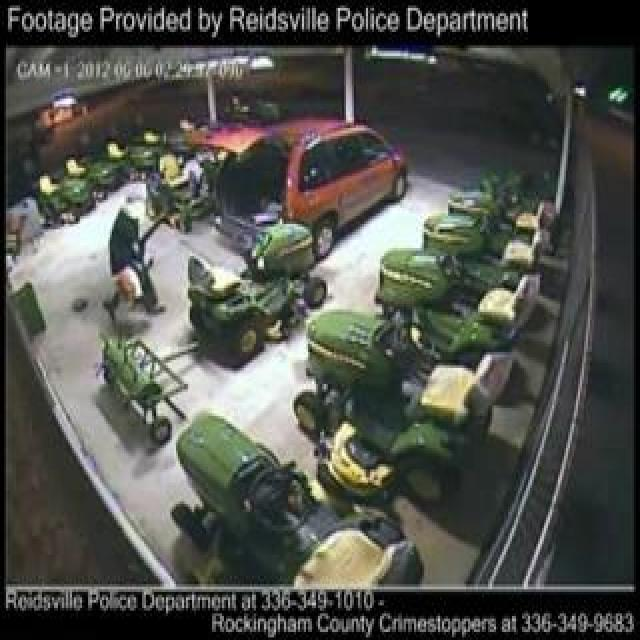thief: (80, 169, 172, 308)
